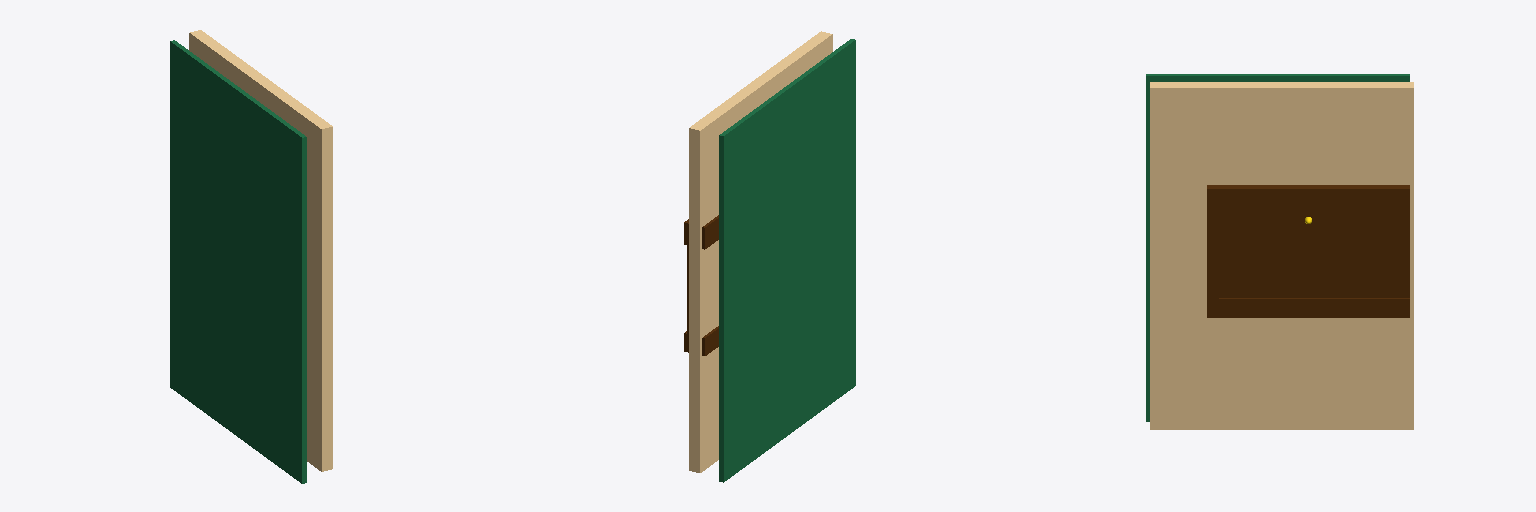
File: tinker.obj
The picture shows the model from 3 angles: view 1: azimuth 30°, elevation 25°; view 2: azimuth 150°, elevation 25°; view 3: azimuth 270°, elevation 25°; orthographic projection.
Visible parts, largest first — view 1: obj_0; view 2: obj_0; view 3: obj_0.
Part boxes in pixels (left/top/right/bottom): obj_0: left=170, top=30, right=332, bottom=483; obj_0: left=684, top=31, right=855, bottom=482; obj_0: left=1146, top=74, right=1413, bottom=429.
Size of the model in its own units: 11.8 by 94.5 by 66.